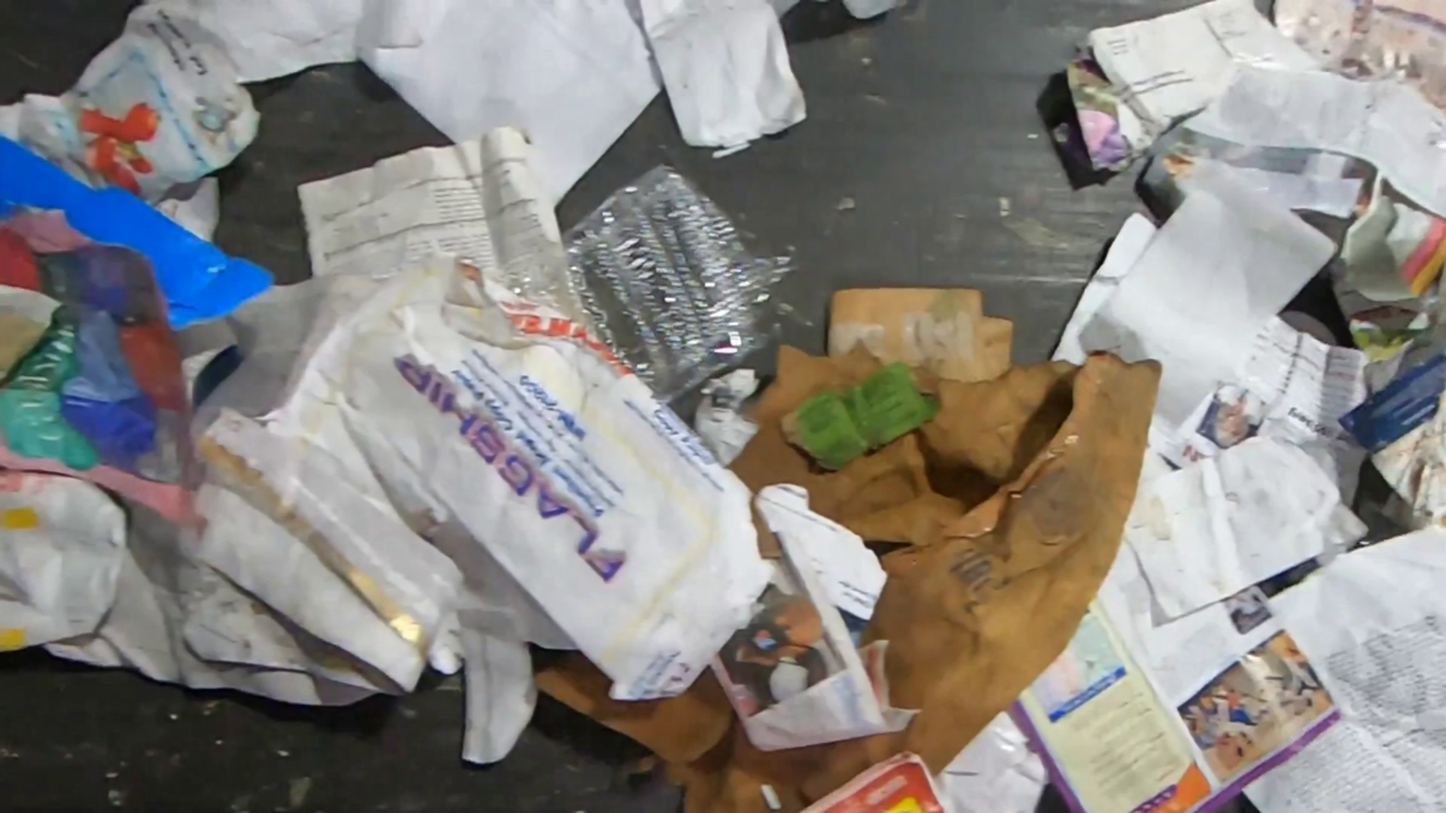cardboard: (534, 335, 1164, 813), (0, 133, 274, 329), (822, 286, 1017, 380)
plastic: (492, 163, 795, 405)
